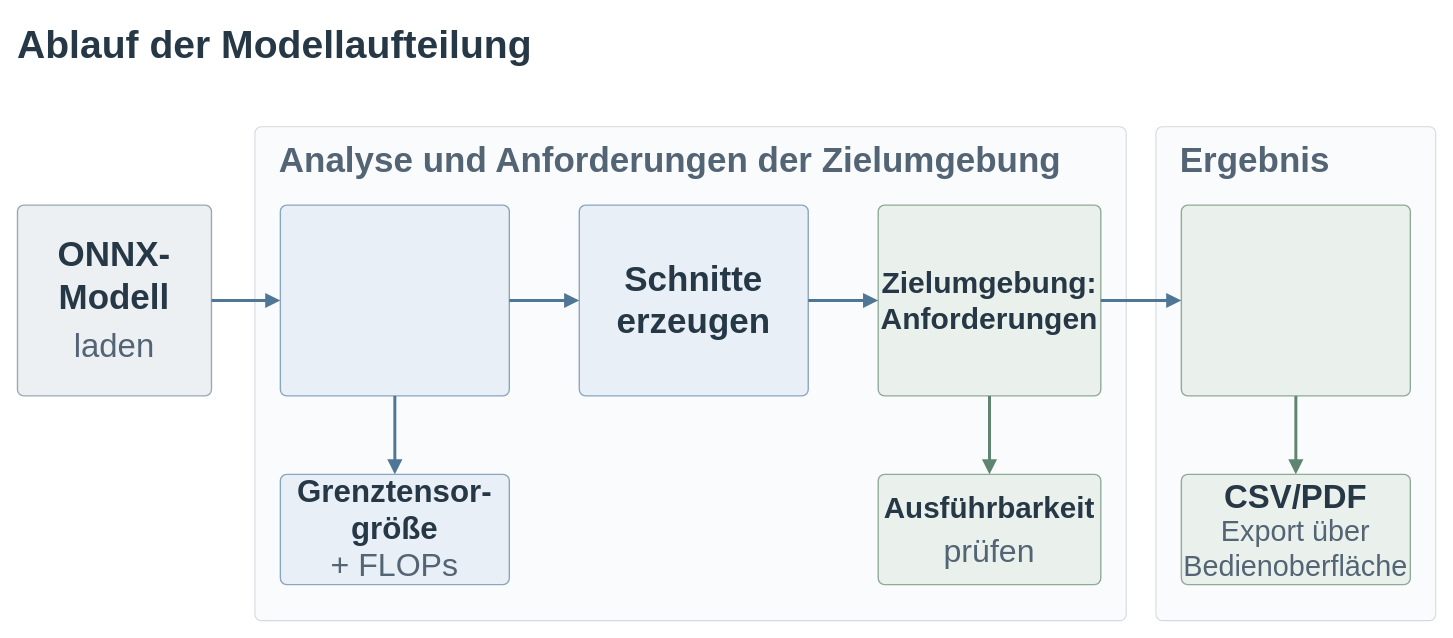
Some shapes in this 1453 by 638 pixel diagram are drawn without their labels. The shapes that lost their labels are listed below. From the top down, each one's box as (x1, y1, x2, y2) in pixels, then its label:
(279, 204, 510, 396): Formen + Metadaten
(1180, 204, 1411, 396): Rangfolge bilden + exportieren
